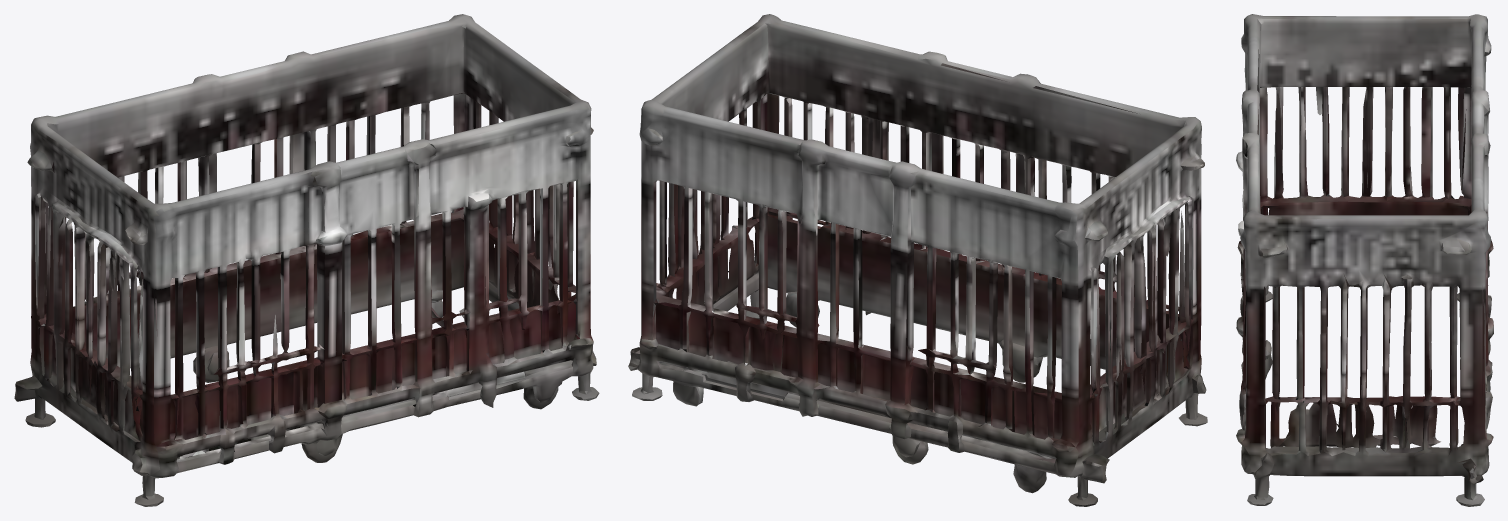
Rendered from knocking-box.glb.
The picture shows the model from 3 angles, left to right: view 1: azimuth 30°, elevation 25°; view 2: azimuth 150°, elevation 25°; view 3: azimuth 270°, elevation 25°; orthographic projection. The views are drawn at different scales.
Parts seen in each view (by area): view 1: cowninja-knocking-box; view 2: cowninja-knocking-box; view 3: cowninja-knocking-box.
Part boxes in pixels (x1,y1,x2,y2): cowninja-knocking-box: (14,14,599,506); cowninja-knocking-box: (628,14,1207,506); cowninja-knocking-box: (1236,14,1493,506).
Bounding box in the file's own units: 3 × 1.83 × 1.48.
Materials: 1 (1 with a texture image).
